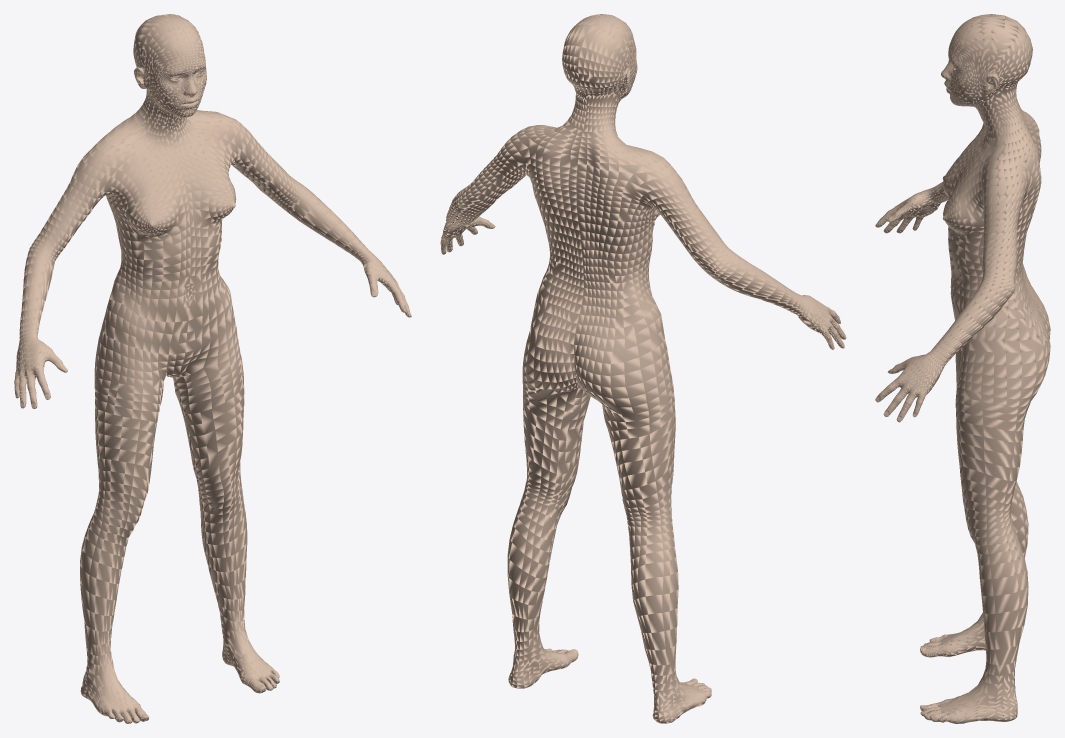
File: female_low_medium.glb
The picture shows the model from 3 angles, left to right: view 1: azimuth 30°, elevation 25°; view 2: azimuth 150°, elevation 25°; view 3: azimuth 270°, elevation 25°; orthographic projection. The views are drawn at different scales.
Parts seen in each view (by area): view 1: female_low_mediumMesh; view 2: female_low_mediumMesh; view 3: female_low_mediumMesh.
Boxes of the visible parts, left/top/right/bottom form: female_low_mediumMesh: left=14, top=14, right=411, bottom=723; female_low_mediumMesh: left=440, top=14, right=846, bottom=723; female_low_mediumMesh: left=875, top=14, right=1050, bottom=723.
Size of the model in its own units: 9.81 by 16.06 by 3.82.
